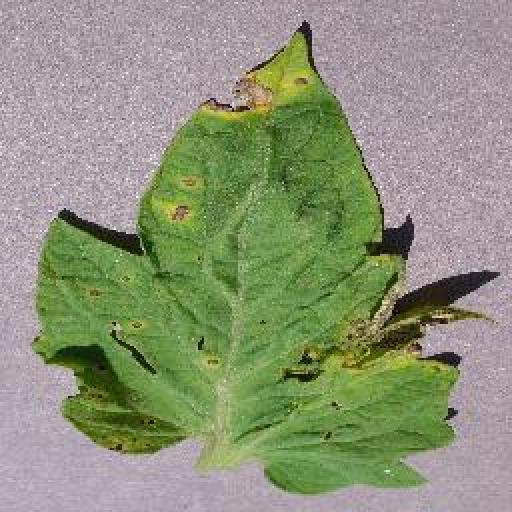disease_tomato: (26, 22, 460, 496)
